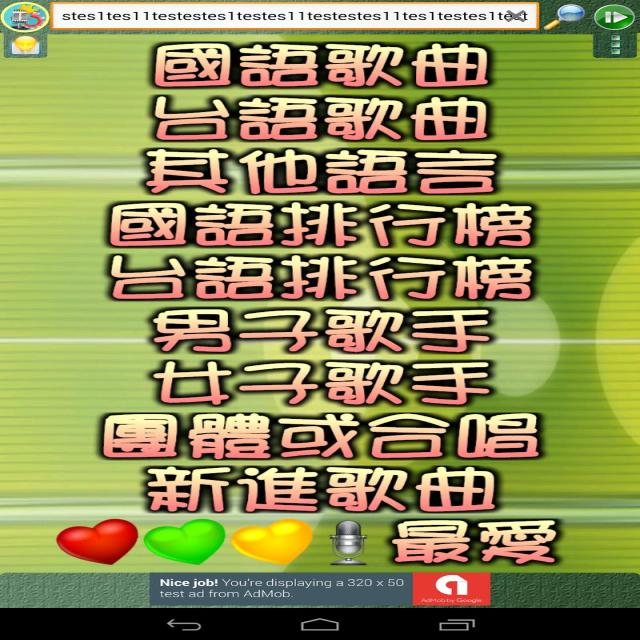button: (536, 1, 585, 34), (589, 3, 640, 31), (3, 34, 53, 58), (595, 35, 635, 58)
field: (54, 0, 538, 32)
iframe: (152, 575, 492, 605)
image: (414, 575, 487, 604), (0, 0, 46, 31)
text: (158, 577, 406, 598)
